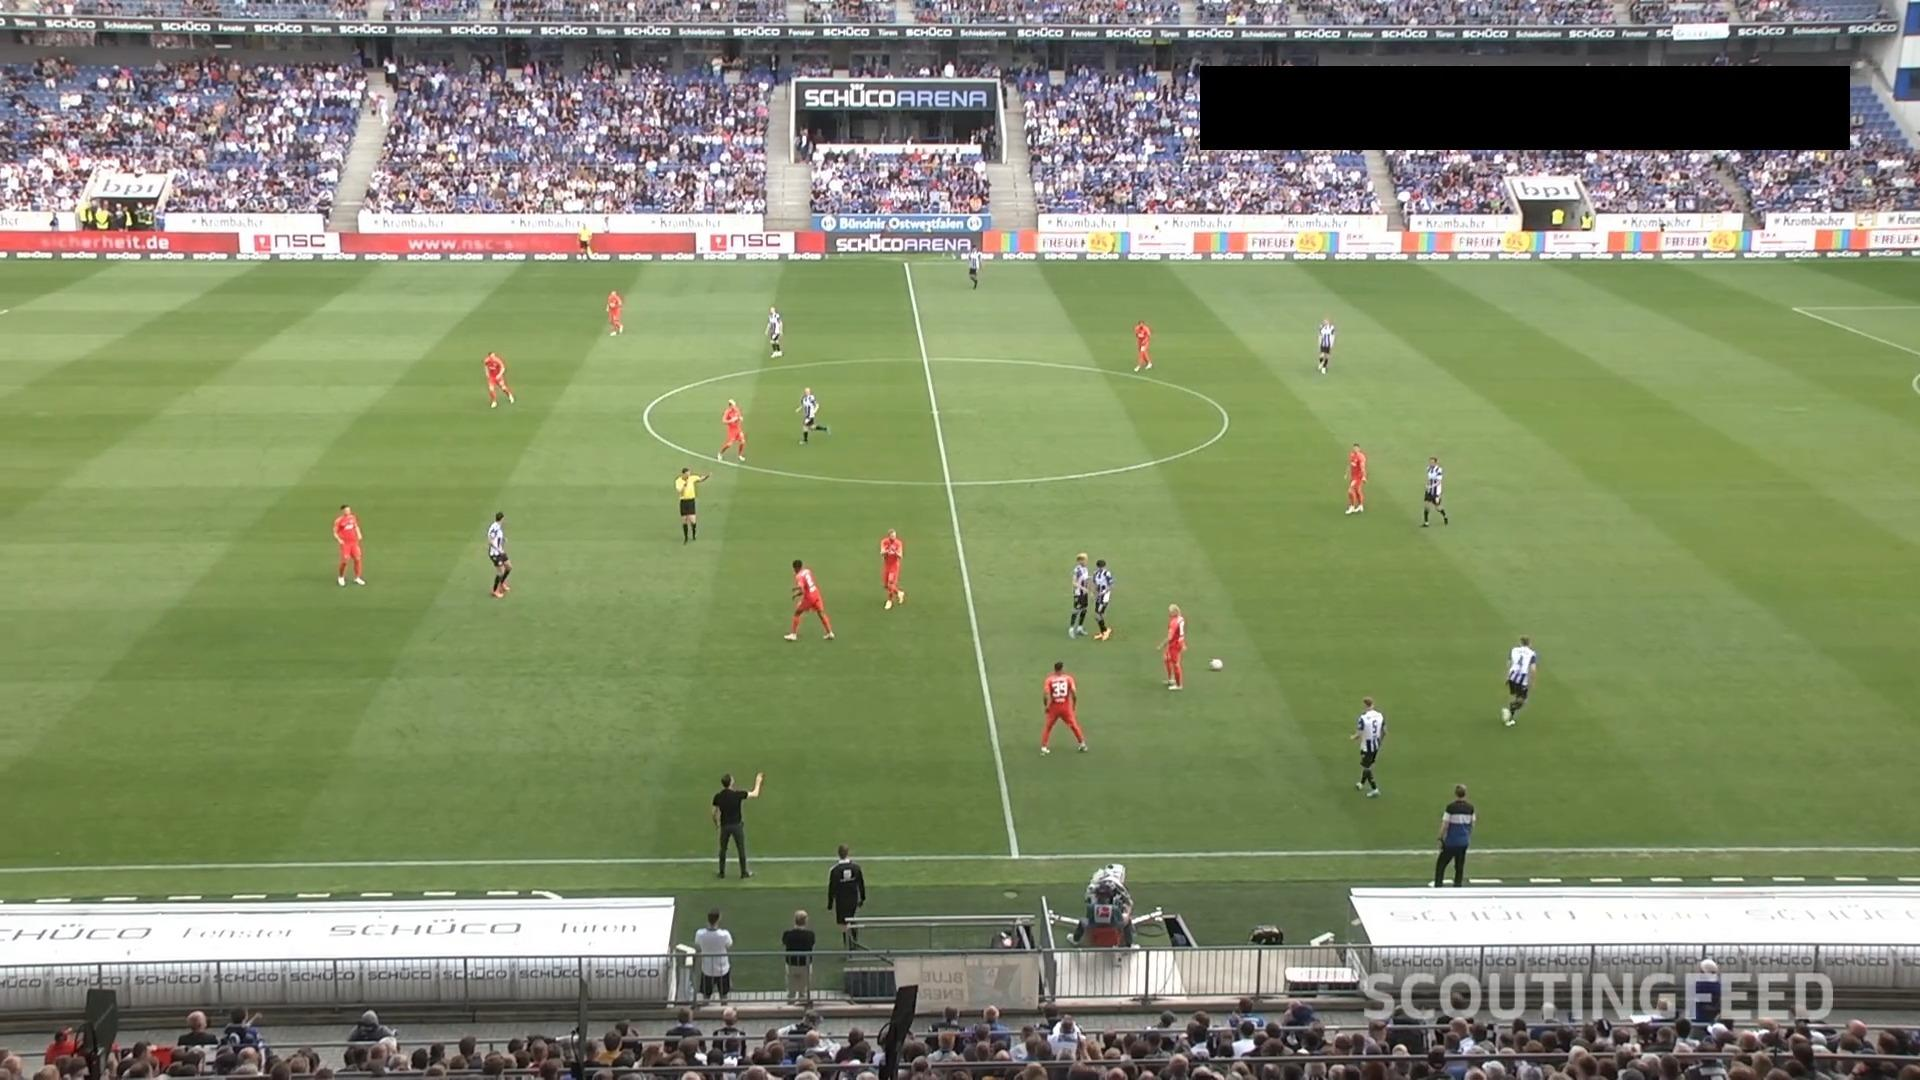ball: (1207, 658, 1224, 673)
